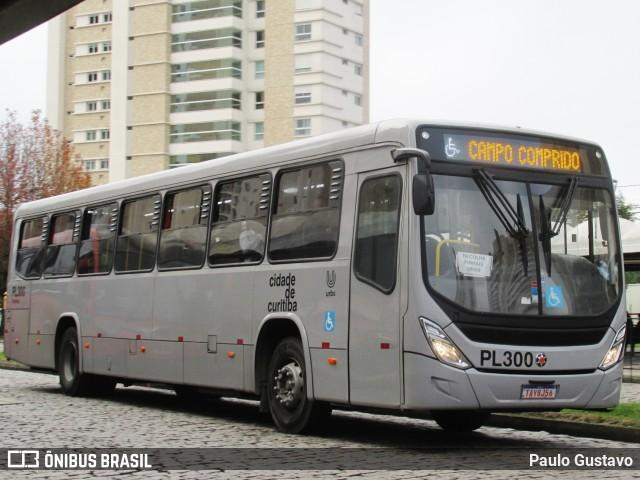CAMPO COMPRIDO: (465, 135, 583, 175)
